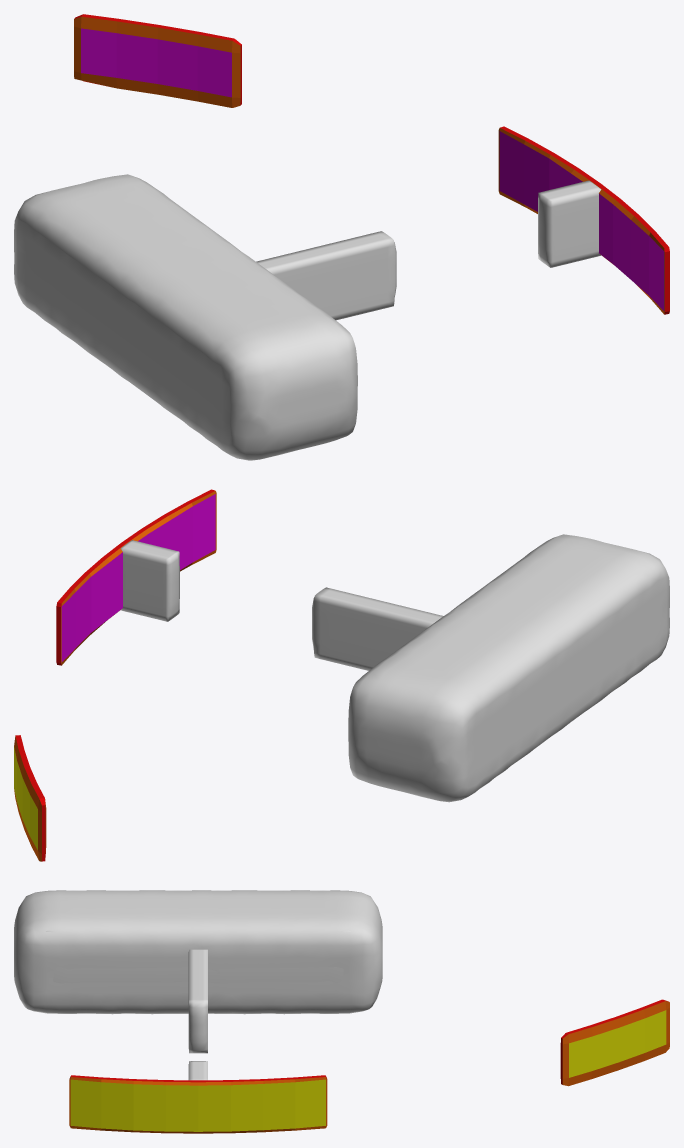
The model's file is cdssp5_lod.fbx.
3 views of the same model, one above another, from view 1: azimuth 30°, elevation 25°; view 2: azimuth 150°, elevation 25°; view 3: azimuth 270°, elevation 25° (orthographic). The views are drawn at different scales.
Visible parts, largest first — view 1: cdsp5_lod_1_0, cdsp5_lod_4_0, cdsp5_lod_5_1, cdsp5_lod_2_0, cdsp5_lod_3_0, cdsp5_lod_4_1; view 2: cdsp5_lod_1_0, cdsp5_lod_5_1, cdsp5_lod_2_0, cdsp5_lod_3_0, cdsp5_lod_4_0; view 3: cdsp5_lod_1_0, cdsp5_lod_5_1, cdsp5_lod_4_0, cdsp5_lod_1_1, cdsp5_lod_2_0, cdsp5_lod_4_1, cdsp5_lod_3_0.
Boxes of the visible parts, box(x1,y1,x2,y2) form: cdsp5_lod_1_0: box(14, 174, 357, 460); cdsp5_lod_4_0: box(74, 14, 241, 107); cdsp5_lod_5_1: box(498, 126, 669, 314); cdsp5_lod_2_0: box(256, 231, 396, 320); cdsp5_lod_3_0: box(538, 180, 601, 267); cdsp5_lod_4_1: box(74, 14, 241, 107); cdsp5_lod_1_0: box(348, 534, 669, 802); cdsp5_lod_5_1: box(56, 489, 216, 665); cdsp5_lod_2_0: box(312, 587, 443, 670); cdsp5_lod_3_0: box(120, 540, 179, 621); cdsp5_lod_4_0: box(14, 735, 46, 861); cdsp5_lod_1_0: box(14, 890, 382, 1014); cdsp5_lod_5_1: box(69, 1075, 327, 1133); cdsp5_lod_4_0: box(560, 999, 669, 1085); cdsp5_lod_1_1: box(46, 929, 350, 1013); cdsp5_lod_2_0: box(188, 949, 207, 1053); cdsp5_lod_4_1: box(561, 1000, 669, 1086); cdsp5_lod_3_0: box(188, 1061, 207, 1080).
Size of the model in its own units: 3.24 by 0.772 by 4.98.
